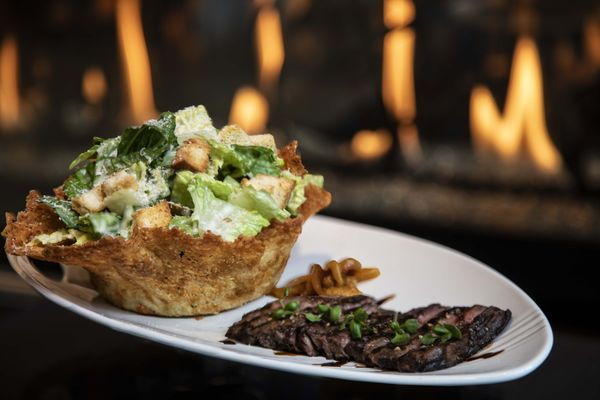sandwich: (2, 104, 332, 317)
